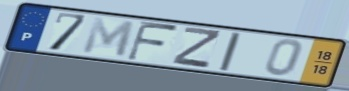0: (261, 38, 305, 79)
7: (48, 11, 89, 53)
F: (124, 19, 181, 63)
I: (217, 31, 244, 73)
M: (80, 16, 137, 60)
Z: (169, 25, 224, 70)
